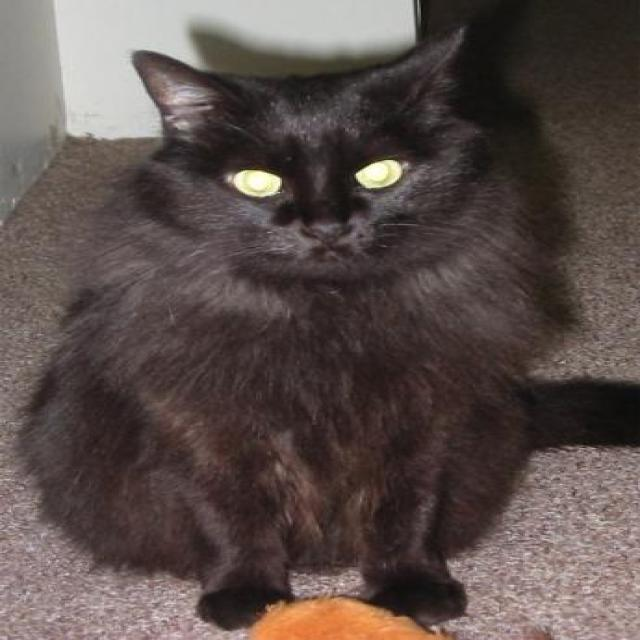cats: (21, 28, 546, 630)
